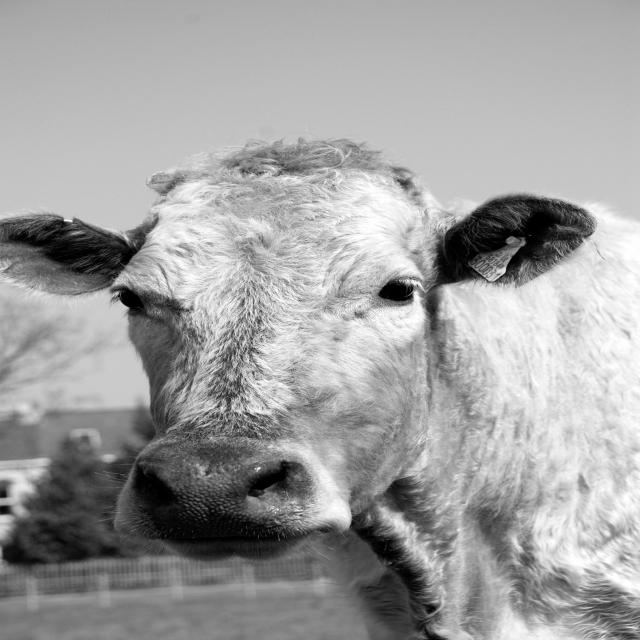cow: (2, 140, 637, 640)
